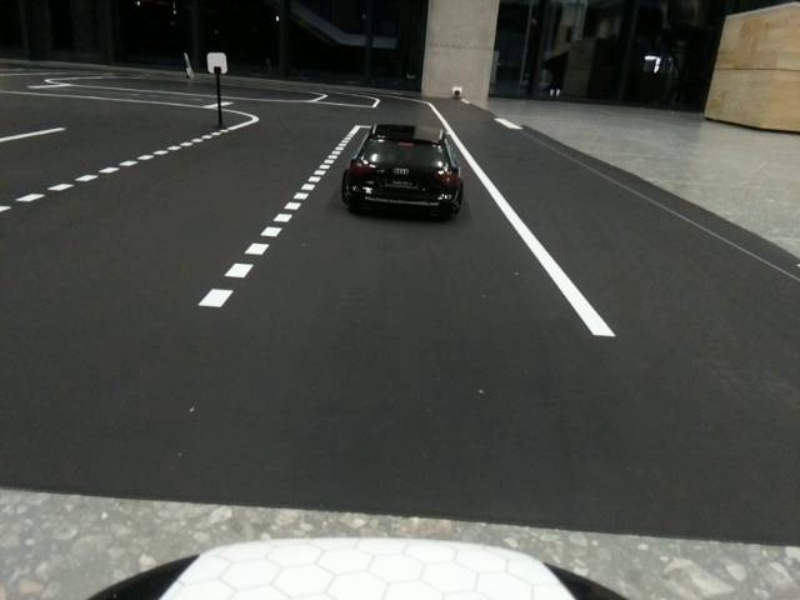car: (336, 119, 477, 231)
